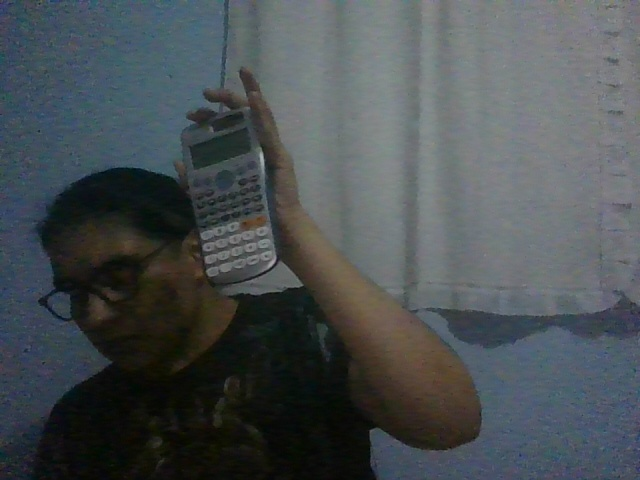calculadora: (179, 106, 280, 287)
